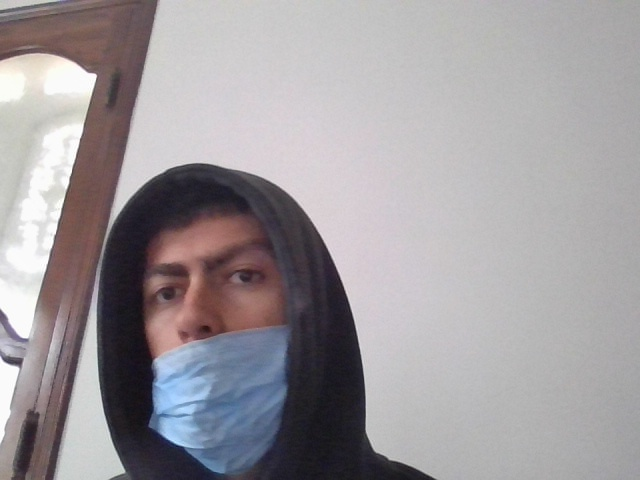mask_weared_incorrect: (132, 180, 297, 480)
